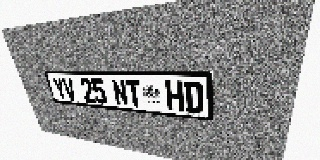2: (79, 78, 96, 103)
5: (90, 78, 108, 104)
D: (183, 81, 203, 114)
H: (165, 80, 184, 112)
N: (111, 79, 129, 106)
T: (125, 79, 143, 108)
V: (61, 77, 78, 101)
Y: (52, 77, 68, 100)
